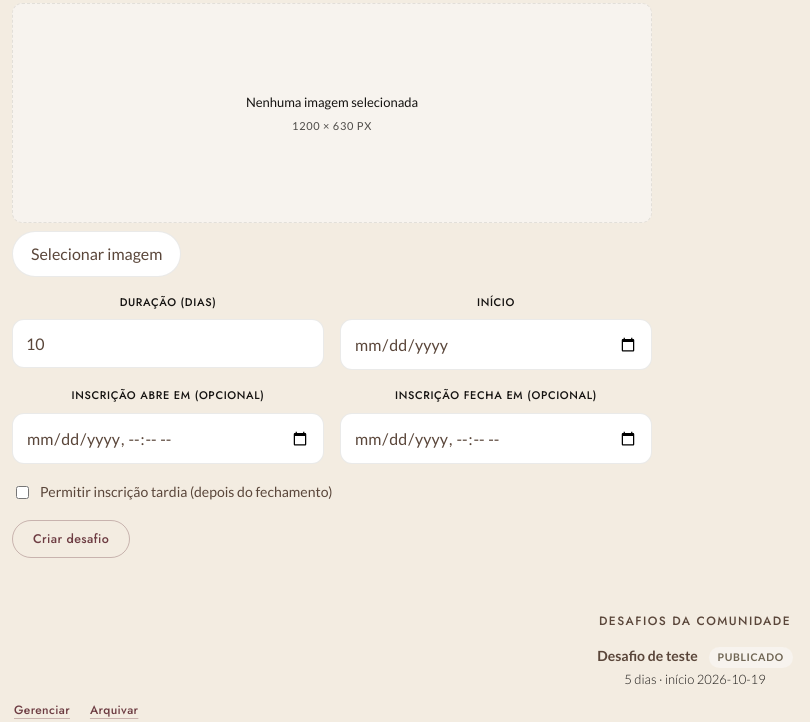
Test case: GardenChallengeManager — aba "Publicar incentivo" (Etapas O/P) › seletor de estilo e pré-visualização › escolher um template aplica a cor/eyebrow da categoria à pré-visualização, mantendo título e mensagem reais
(page scrolled)
Click the button "Gerenciar". click: (42, 710)
box: [12, 698, 72, 721]
(page scrolled)
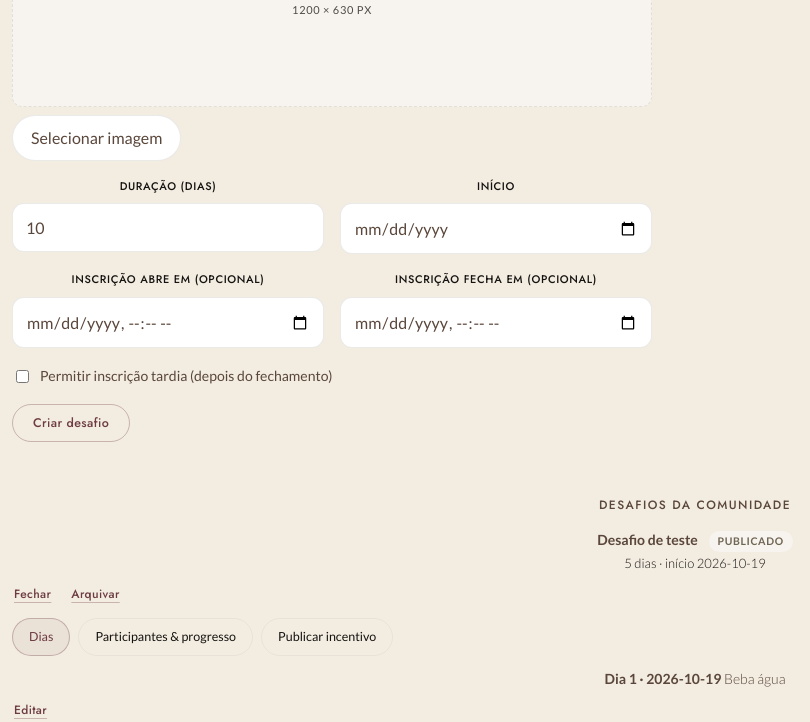
Click the button "Publicar incentivo". click: (327, 637)
box: [261, 618, 393, 656]
(page scrolled)
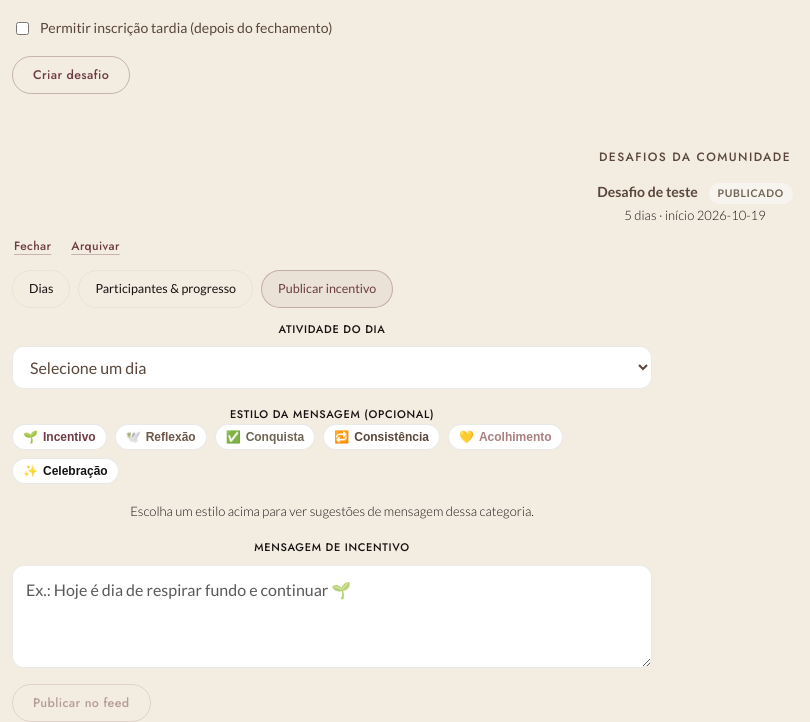
Select "Dia 1 · Beba água (0 concluíram)" in the dropdown labelled "Atividade do dia". click: (332, 368)
box: [12, 346, 652, 389]
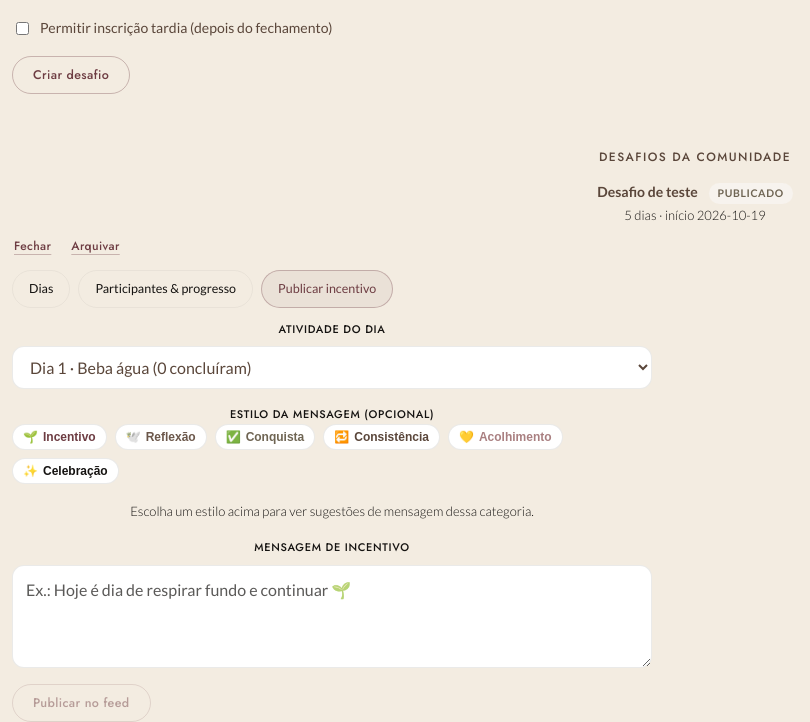
Type "Hoje é dia de respirar fundo." into the text box labelled "Mensagem de incentivo". click: (332, 617)
box: [12, 565, 652, 668]
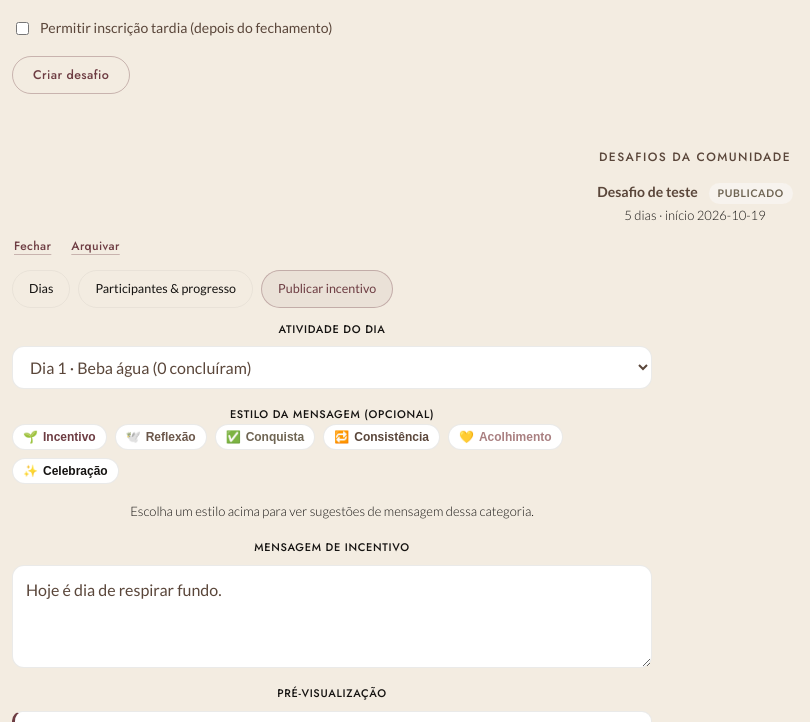
Click the button "💛 Acolhimento". click: (505, 437)
box: [448, 424, 563, 450]
(page scrolled)
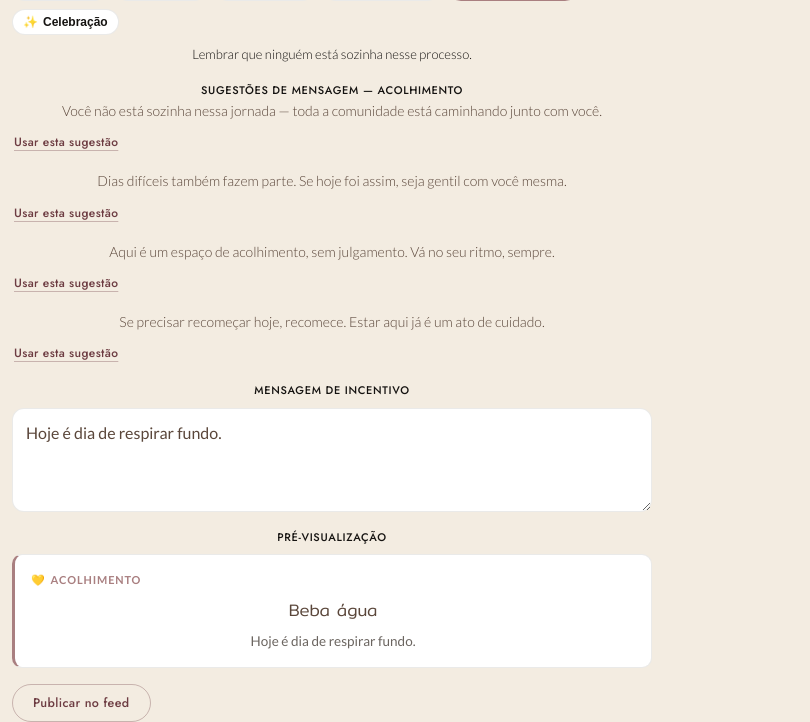
expect the text with class "garden-incentive-template-title" reads "Beba água": met, box [289, 597, 377, 623]
expect the text with class "garden-incentive-template-message" reads "Hoje é dia de respirar fundo.": met, box [250, 632, 416, 648]
expect the element with class "garden-incentive-template--acolhimento" that starts with "Acolhimento" is shown: met, box [12, 554, 652, 668]
